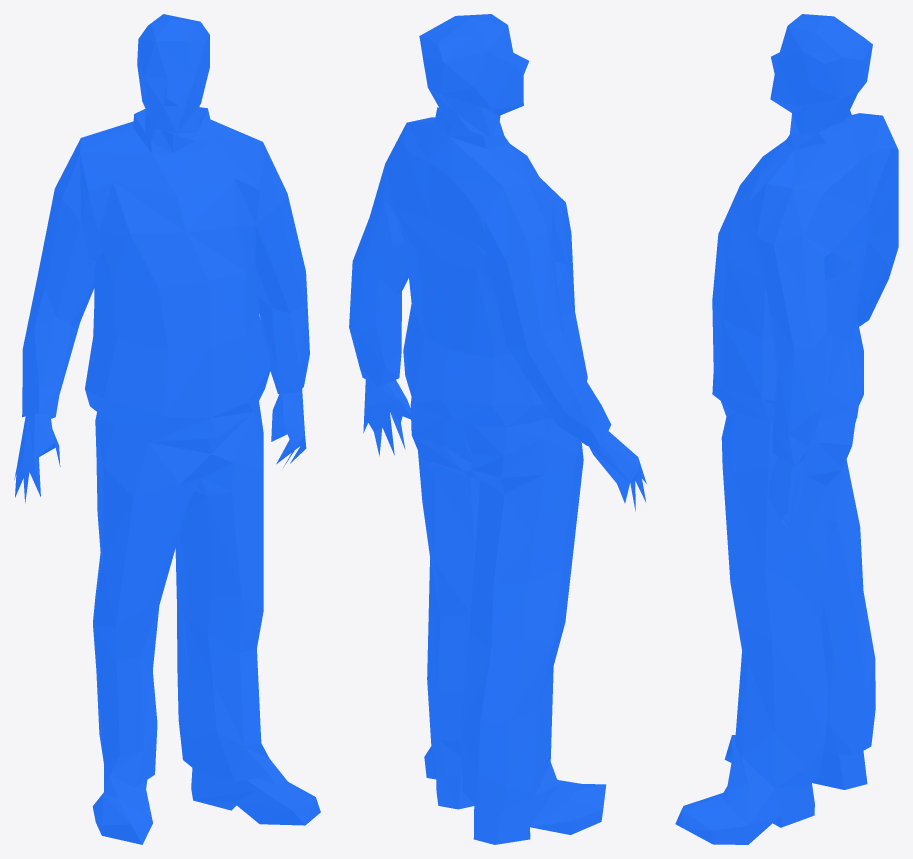
The model's file is human polygon new.fbx.
3 views of the same model, side by side, from view 1: azimuth 30°, elevation 25°; view 2: azimuth 150°, elevation 25°; view 3: azimuth 270°, elevation 25° (orthographic). The views are drawn at different scales.
Parts seen in each view (by area): view 1: Casual_02a___Look_At_Right_1_230, Casual_02a___Look_At_Right_1_123, Casual_02a___Look_At_Right_1_301, Casual_02a___Look_At_Right_1_308, Casual_02a___Look_At_Right_1_315, Casual_02a___Look_At_Right_1_237, Casual_02a___Look_At_Right_1_235, Casual_02a___Look_At_Right_1_236, Casual_02a___Look_At_Right_1_125, Casual_02a___Look_At_Right_1_82, Casual_02a___Look_At_Right_1_240, Casual_02a___Look_At_Right_1_102 (+85 smaller); view 2: Casual_02a___Look_At_Right_1_297, Casual_02a___Look_At_Right_1_114, Casual_02a___Look_At_Right_1_96, Casual_02a___Look_At_Right_1_298, Casual_02a___Look_At_Right_1_87, Casual_02a___Look_At_Right_1_98, Casual_02a___Look_At_Right_1_294, Casual_02a___Look_At_Right_1_319, Casual_02a___Look_At_Right_1_29, Casual_02a___Look_At_Right_1_315, Casual_02a___Look_At_Right_1_94, Casual_02a___Look_At_Right_1_325 (+80 smaller); view 3: Casual_02a___Look_At_Right_1_126, Casual_02a___Look_At_Right_1_301, Casual_02a___Look_At_Right_1_106, Casual_02a___Look_At_Right_1_105, Casual_02a___Look_At_Right_1_233, Casual_02a___Look_At_Right_1_104, Casual_02a___Look_At_Right_1_85, Casual_02a___Look_At_Right_1_112, Casual_02a___Look_At_Right_1_234, Casual_02a___Look_At_Right_1_300, Casual_02a___Look_At_Right_1_295, Casual_02a___Look_At_Right_1_329 (+76 smaller).
Boxes of the visible parts, left/top/right/bottom form: Casual_02a___Look_At_Right_1_230: left=114, top=416, right=216, bottom=496; Casual_02a___Look_At_Right_1_123: left=115, top=484, right=179, bottom=627; Casual_02a___Look_At_Right_1_301: left=55, top=139, right=305, bottom=288; Casual_02a___Look_At_Right_1_308: left=63, top=128, right=245, bottom=280; Casual_02a___Look_At_Right_1_315: left=113, top=154, right=186, bottom=233; Casual_02a___Look_At_Right_1_237: left=164, top=348, right=211, bottom=417; Casual_02a___Look_At_Right_1_235: left=211, top=336, right=248, bottom=417; Casual_02a___Look_At_Right_1_236: left=209, top=272, right=245, bottom=348; Casual_02a___Look_At_Right_1_125: left=232, top=470, right=263, bottom=610; Casual_02a___Look_At_Right_1_82: left=116, top=656, right=143, bottom=755; Casual_02a___Look_At_Right_1_240: left=104, top=349, right=167, bottom=416; Casual_02a___Look_At_Right_1_102: left=208, top=634, right=243, bottom=745; Casual_02a___Look_At_Right_1_297: left=393, top=203, right=571, bottom=353; Casual_02a___Look_At_Right_1_114: left=434, top=474, right=473, bottom=612; Casual_02a___Look_At_Right_1_96: left=508, top=568, right=562, bottom=721; Casual_02a___Look_At_Right_1_298: left=432, top=202, right=556, bottom=352; Casual_02a___Look_At_Right_1_87: left=480, top=638, right=523, bottom=722; Casual_02a___Look_At_Right_1_98: left=493, top=494, right=533, bottom=584; Casual_02a___Look_At_Right_1_294: left=507, top=230, right=548, bottom=335; Casual_02a___Look_At_Right_1_319: left=448, top=126, right=502, bottom=186; Casual_02a___Look_At_Right_1_29: left=435, top=562, right=470, bottom=690; Casual_02a___Look_At_Right_1_315: left=428, top=136, right=563, bottom=220; Casual_02a___Look_At_Right_1_94: left=491, top=583, right=527, bottom=650; Casual_02a___Look_At_Right_1_325: left=420, top=16, right=480, bottom=106; Casual_02a___Look_At_Right_1_126: left=731, top=465, right=768, bottom=622; Casual_02a___Look_At_Right_1_301: left=756, top=238, right=813, bottom=352; Casual_02a___Look_At_Right_1_106: left=764, top=569, right=811, bottom=701; Casual_02a___Look_At_Right_1_105: left=772, top=641, right=811, bottom=766; Casual_02a___Look_At_Right_1_233: left=721, top=319, right=762, bottom=398; Casual_02a___Look_At_Right_1_104: left=741, top=641, right=774, bottom=756; Casual_02a___Look_At_Right_1_85: left=829, top=596, right=866, bottom=724; Casual_02a___Look_At_Right_1_112: left=764, top=466, right=806, bottom=588; Casual_02a___Look_At_Right_1_234: left=721, top=259, right=765, bottom=338; Casual_02a___Look_At_Right_1_300: left=803, top=193, right=832, bottom=331; Casual_02a___Look_At_Right_1_295: left=727, top=210, right=854, bottom=333; Casual_02a___Look_At_Right_1_329: left=792, top=64, right=859, bottom=133.
Size of the model in its own units: 62.82 by 167 by 42.83.
